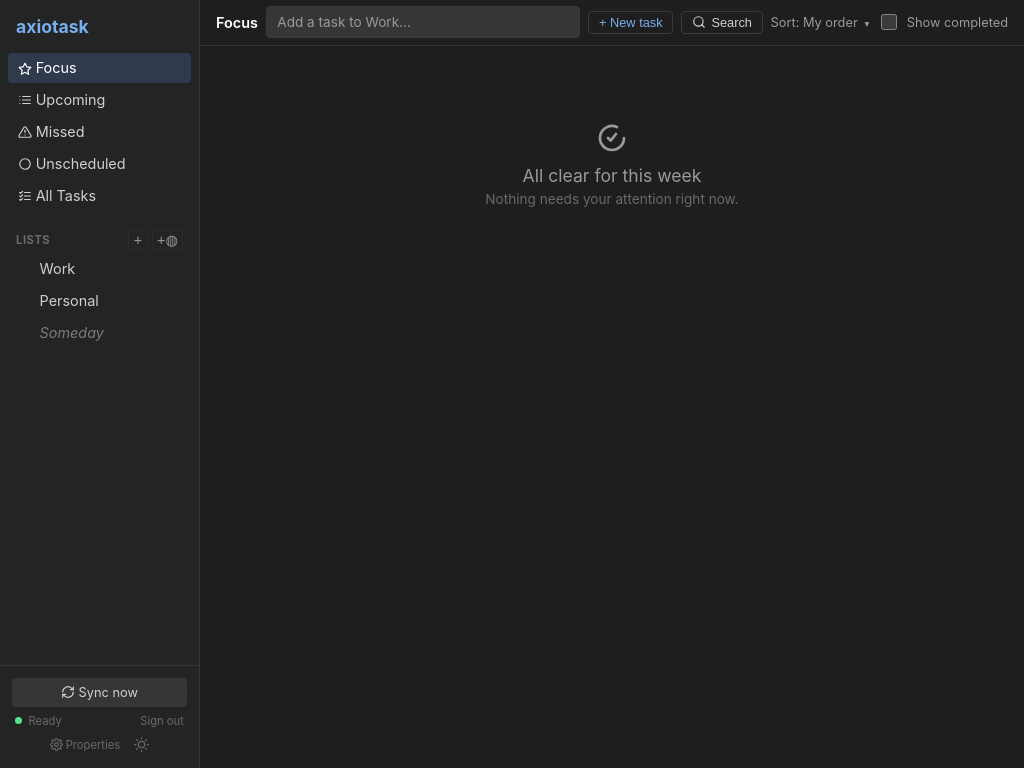
Test: GH#15: List Exclusion from Smart Views › Right-click toggle › right-click on excluded list shows 'Include in smart views' option
Right-click the button "Someday" at (110, 332), box left=30, top=318, right=191, bottom=347
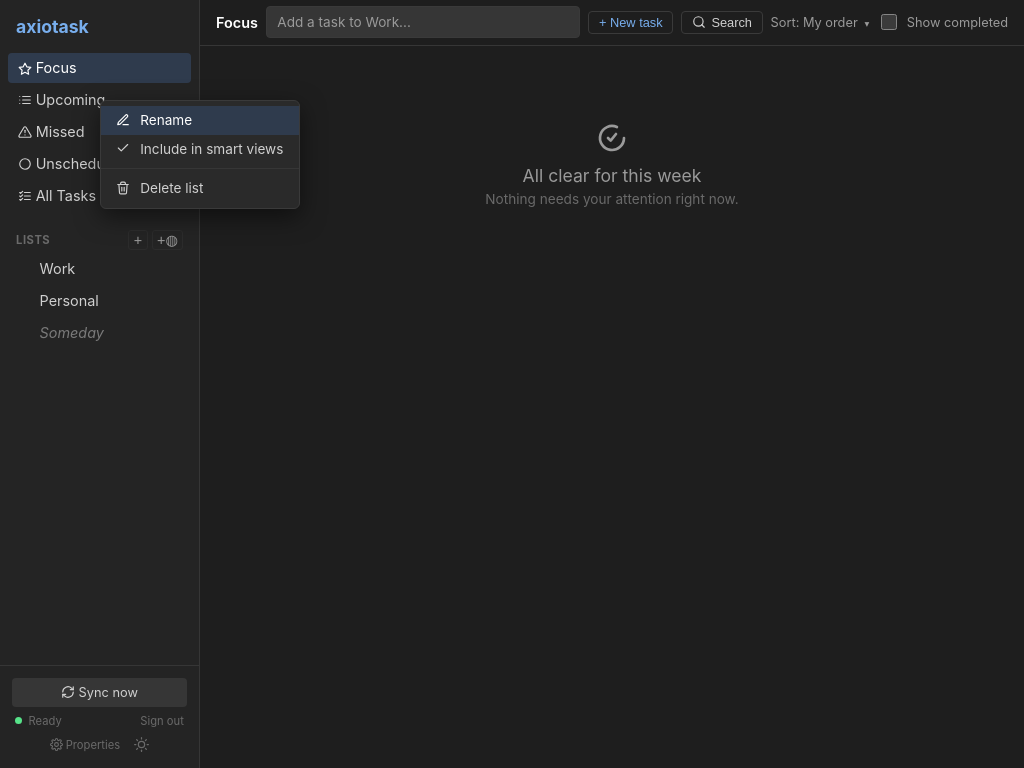
Check: the text "Include in smart views" is shown, box left=140, top=141, right=287, bottom=157
